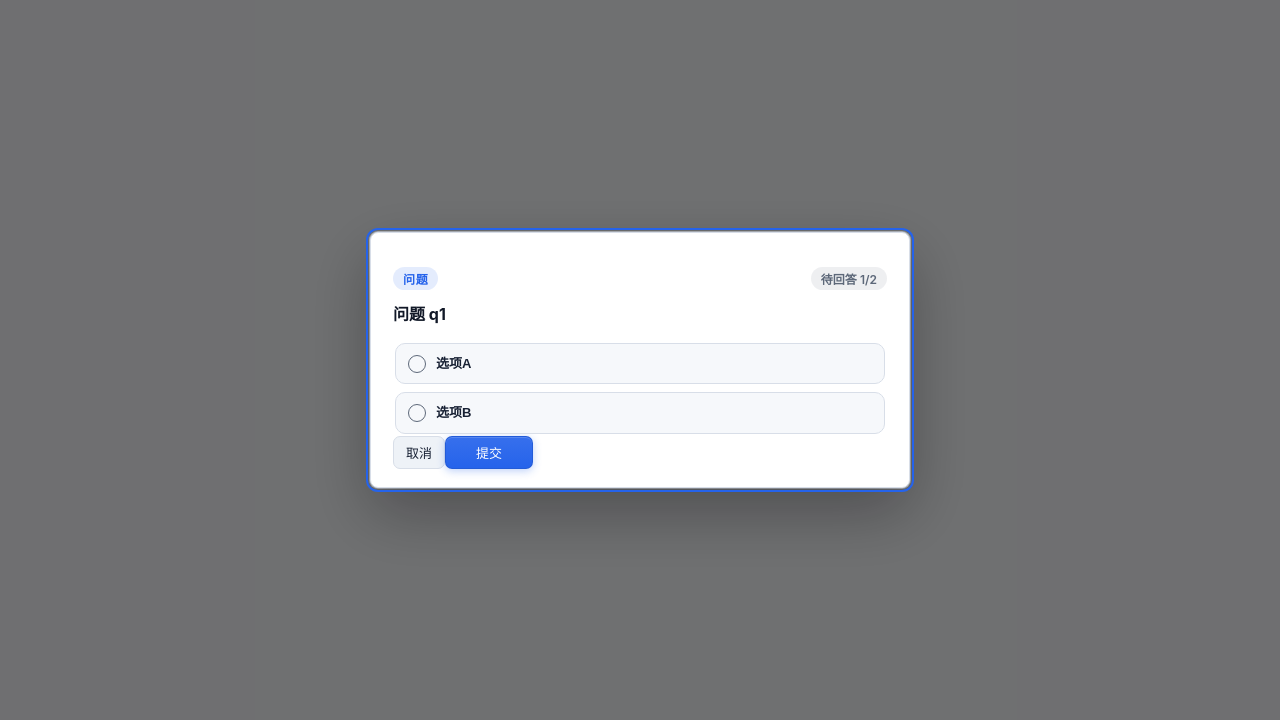
QuestionHost › shows only the head of the queue and reveals the next after answering
The image size is (1280, 720).
Expected: the text "问题 q1" is shown, x1=393 y1=304 x2=446 y2=324
Expected: the text "待回答 1/2" is shown, x1=811 y1=267 x2=887 y2=290
Click the radio button labelled "○ 选项A": x=454, y=363 x1=395 y1=343 x2=885 y2=384
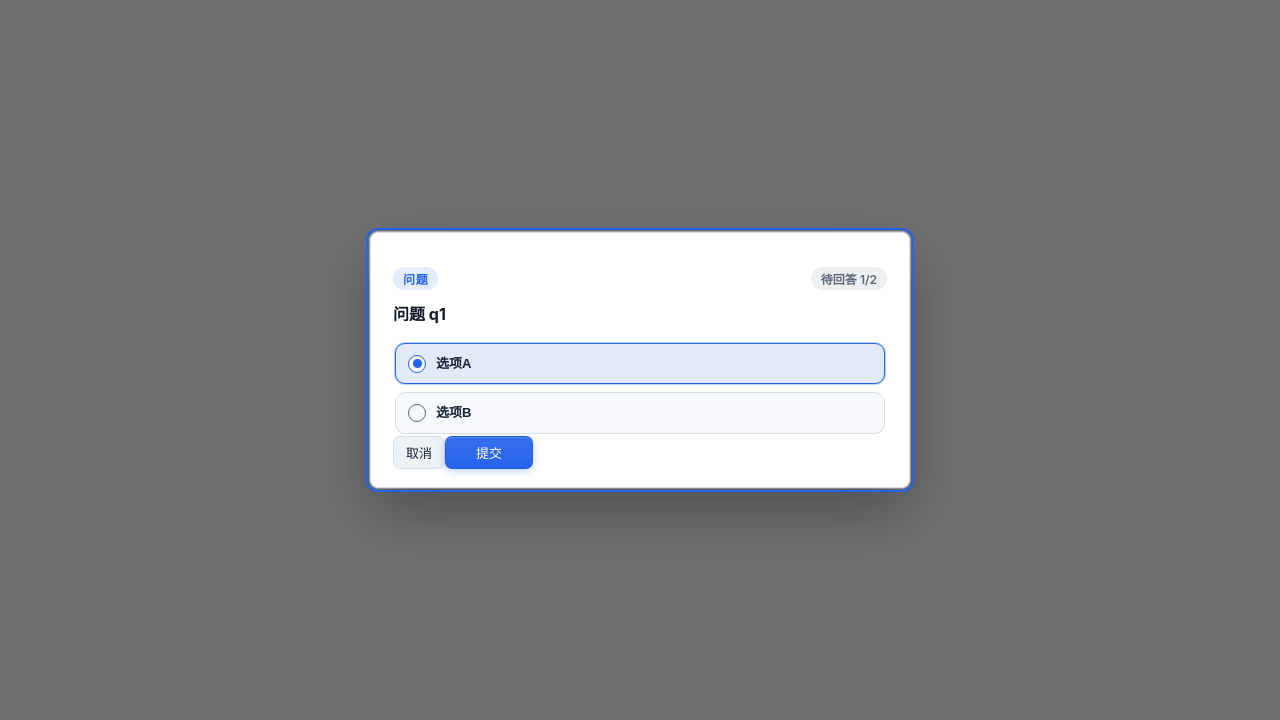
Click the button "提交": x=489, y=452 x1=445 y1=436 x2=533 y2=469
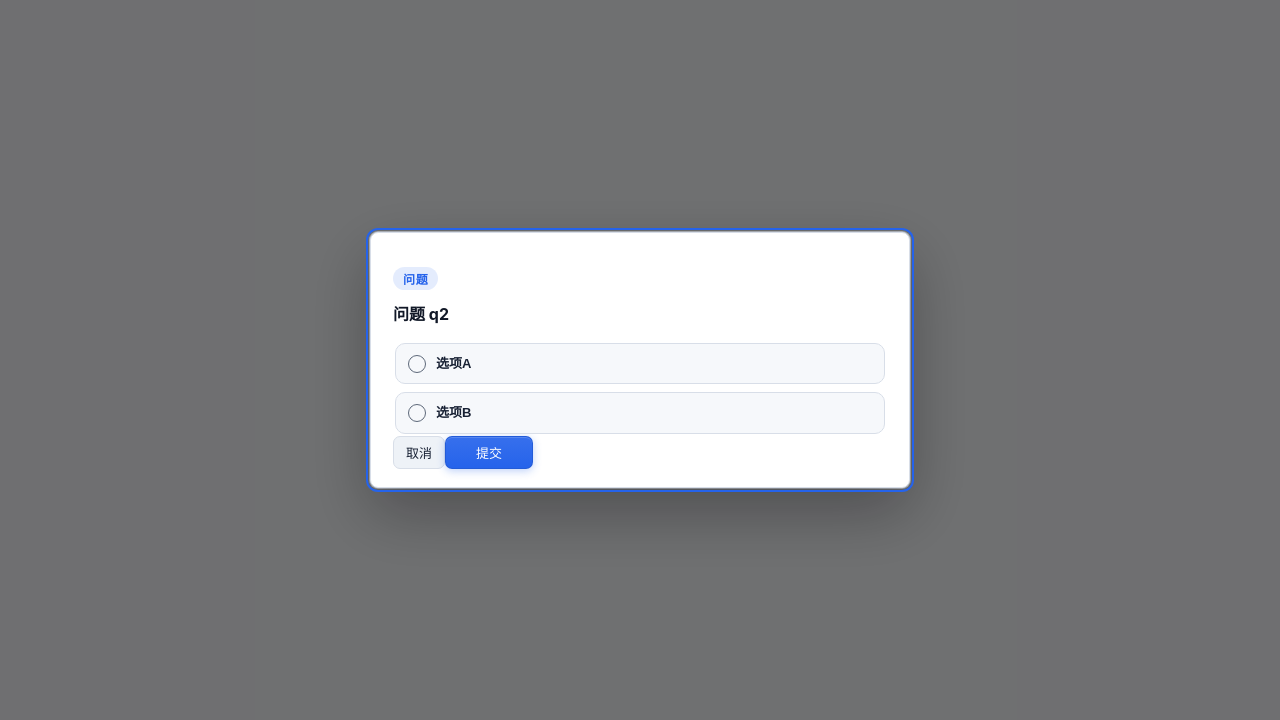
Expected: the text "问题 q2" is shown, x1=393 y1=304 x2=449 y2=324
